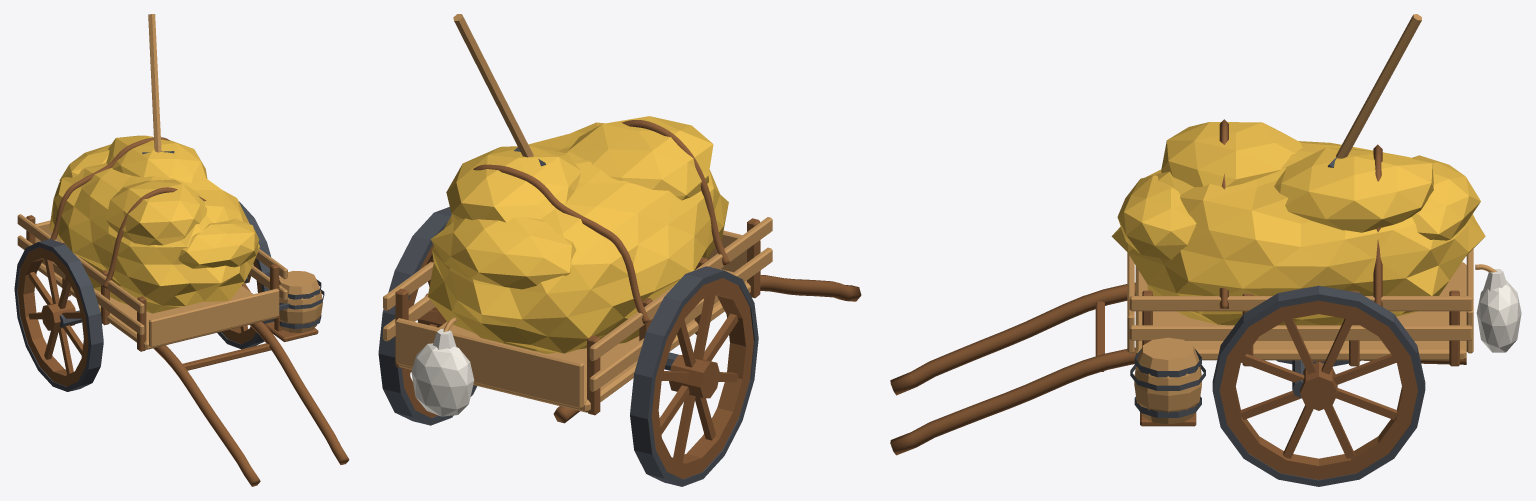
File: medieval-hay-cart.glb
3 views of the same model, side by side, from view 1: azimuth 30°, elevation 25°; view 2: azimuth 150°, elevation 25°; view 3: azimuth 270°, elevation 25° (orthographic). The views are drawn at different scales.
Parts seen in each view (by area): view 1: Hay, Wheel_L, FrontBoard, Shaft_L, Shaft_R, Barrel, Bed_Floor, Wheel_R, SideRail_-1_3.15, Pitchfork_Handle, SideRail_-1_2.6, Rope_1 (+4 smaller); view 2: Hay, Wheel_L, BackBoard, Wheel_R, Sack, Bed_Floor, SideRail_-1_3.15, Shaft_L, Rope_1, SideRail_-1_2.6, Pitchfork_Handle, Rope_0 (+5 smaller); view 3: Hay, Wheel_R, Bed_Floor, Shaft_R, Shaft_L, SideRail_1_2.6, Barrel, SideRail_1_3.15, Sack, Pitchfork_Handle, Barrel_Hoops, Rope_1.
Part boxes in pixels (x1,y1,x2,y2): Hay: [49, 135, 259, 313]; Wheel_L: [14, 239, 103, 391]; FrontBoard: [149, 288, 279, 347]; Shaft_L: [153, 345, 260, 486]; Shaft_R: [250, 322, 349, 464]; Barrel: [279, 270, 322, 332]; Bed_Floor: [38, 263, 276, 349]; Wheel_R: [217, 201, 273, 349]; SideRail_-1_3.15: [17, 214, 144, 314]; Pitchfork_Handle: [148, 14, 161, 152]; SideRail_-1_2.6: [17, 235, 144, 335]; Rope_1: [50, 137, 169, 239]; Hay: [428, 116, 728, 353]; Wheel_L: [630, 266, 758, 486]; BackBoard: [395, 318, 583, 408]; Wheel_R: [378, 207, 477, 425]; Sack: [411, 343, 474, 416]; Bed_Floor: [398, 269, 750, 412]; SideRail_-1_3.15: [589, 217, 772, 361]; Shaft_L: [553, 275, 861, 423]; Rope_1: [426, 164, 649, 323]; SideRail_-1_2.6: [589, 247, 772, 391]; Pitchfork_Handle: [453, 14, 533, 157]; Rope_0: [621, 120, 729, 265]; Hay: [1111, 122, 1485, 325]; Wheel_R: [1212, 285, 1425, 486]; Bed_Floor: [1135, 262, 1466, 360]; Shaft_R: [890, 347, 1466, 455]; Shaft_L: [890, 282, 1135, 395]; SideRail_1_2.6: [1129, 325, 1472, 340]; Barrel: [1134, 337, 1201, 424]; SideRail_1_3.15: [1129, 296, 1472, 311]; Sack: [1476, 280, 1521, 352]; Pitchfork_Handle: [1336, 14, 1421, 158]; Barrel_Hoops: [1134, 349, 1201, 417]; Rope_1: [1373, 144, 1382, 306].
Size of the model in its own units: 5.89 by 8.15 by 10.68.
